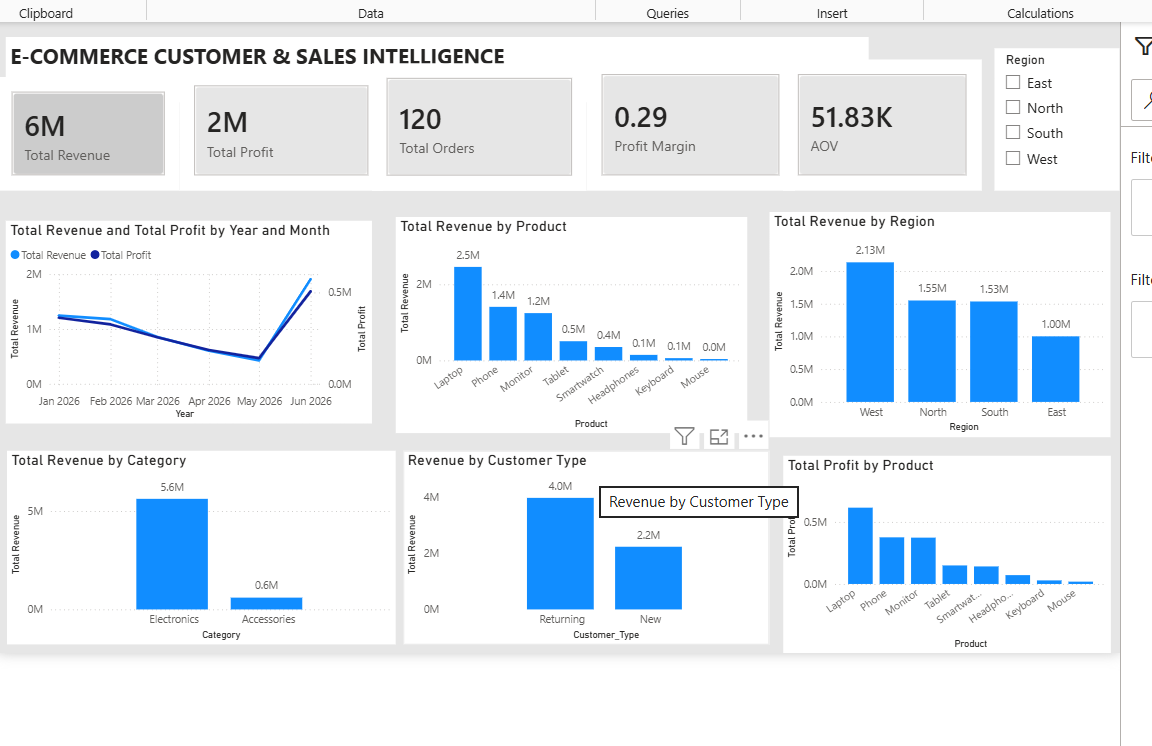

The page's visual inventory and layout, read from the dashboard file:
{"tool":"powerbi","page":{"name":"Page 1","canvas":[1280,720],"ordinal":0},"visuals":[{"type":"textbox","box":[9.6,16.5,983.9,74.1],"z":0},{"type":"cardVisual","fields":{"Data":["ecommerce_cleaned (2).Total Revenue"]},"box":[0,62.7,208.1,129.7],"z":1},{"type":"cardVisual","fields":{"Data":["ecommerce_cleaned (2).Total Profit"]},"box":[208.1,55.6,232.3,136.8],"z":2},{"type":"cardVisual","fields":{"Data":["ecommerce_cleaned (2).Total Orders"]},"box":[427.6,47,245.2,145.4],"z":3},{"type":"cardVisual","fields":{"Data":["ecommerce_cleaned (2).Profit Margin"]},"box":[672.8,42.8,236.6,149.7],"z":4},{"type":"cardVisual","fields":{"Data":["ecommerce_cleaned (2).AOV"]},"box":[896.6,42.8,226.6,149.7],"z":5},{"type":"lineChart","fields":{"Y":["ecommerce_cleaned (2).Total Revenue"],"Y2":["ecommerce_cleaned (2).Total Profit"],"Category":["ecommerce_cleaned (2).Date.Variation.Date Hierarchy.Year","ecommerce_cleaned (2).Date.Variation.Date Hierarchy.Month"]},"box":[10,226.6,417.6,230.9],"z":6},{"type":"clusteredColumnChart","fields":{"Category":["ecommerce_cleaned (2).Product"],"Y":["ecommerce_cleaned (2).Total Revenue"]},"box":[454.7,222.4,400.5,246.6],"z":7},{"type":"clusteredColumnChart","fields":{"Y":["ecommerce_cleaned (2).Total Revenue"],"Category":["ecommerce_cleaned (2).Region"]},"box":[880.9,216.7,389.1,256.6],"z":8},{"type":"clusteredColumnChart","fields":{"Category":["ecommerce_cleaned (2).Category"],"Y":["ecommerce_cleaned (2).Total Revenue"]},"box":[11.4,488.9,443.3,220.9],"z":9},{"type":"clusteredColumnChart","title":"Revenue by Customer Type","fields":{"Category":["ecommerce_cleaned (2).Customer_Type"],"Y":["ecommerce_cleaned (2).Total Revenue"]},"box":[463.3,488.9,417.6,220.9],"z":10},{"type":"clusteredColumnChart","fields":{"Category":["ecommerce_cleaned (2).Product"],"Y":["ecommerce_cleaned (2).Total Profit"]},"box":[896.6,494.6,373.5,225.2],"z":11},{"type":"slicer","fields":{"Values":["ecommerce_cleaned (2).Region"]},"box":[1137.5,29.9,142.5,162.5],"z":12}]}

Visuals, with their boxes on the page's 1280x720 design canvas (x1, y1, x2, y2). These are canvas units, not pixel positions in the 1152x746 screenshot, which may show the page scaled, cropped or inside an application window:
textbox: bbox=[10, 16, 994, 91]
cardVisual - ecommerce_cleaned (2).Total Revenue: bbox=[0, 63, 208, 192]
cardVisual - ecommerce_cleaned (2).Total Profit: bbox=[208, 56, 440, 192]
cardVisual - ecommerce_cleaned (2).Total Orders: bbox=[428, 47, 673, 192]
cardVisual - ecommerce_cleaned (2).Profit Margin: bbox=[673, 43, 909, 192]
cardVisual - ecommerce_cleaned (2).AOV: bbox=[897, 43, 1123, 192]
lineChart - ecommerce_cleaned (2).Total Revenue x ecommerce_cleaned (2).Total Profit: bbox=[10, 227, 428, 458]
clusteredColumnChart - ecommerce_cleaned (2).Product x ecommerce_cleaned (2).Total Revenue: bbox=[455, 222, 855, 469]
clusteredColumnChart - ecommerce_cleaned (2).Total Revenue x ecommerce_cleaned (2).Region: bbox=[881, 217, 1270, 473]
clusteredColumnChart - ecommerce_cleaned (2).Category x ecommerce_cleaned (2).Total Revenue: bbox=[11, 489, 455, 710]
"Revenue by Customer Type" clusteredColumnChart: bbox=[463, 489, 881, 710]
clusteredColumnChart - ecommerce_cleaned (2).Product x ecommerce_cleaned (2).Total Profit: bbox=[897, 495, 1270, 720]
slicer - ecommerce_cleaned (2).Region: bbox=[1138, 30, 1280, 192]
